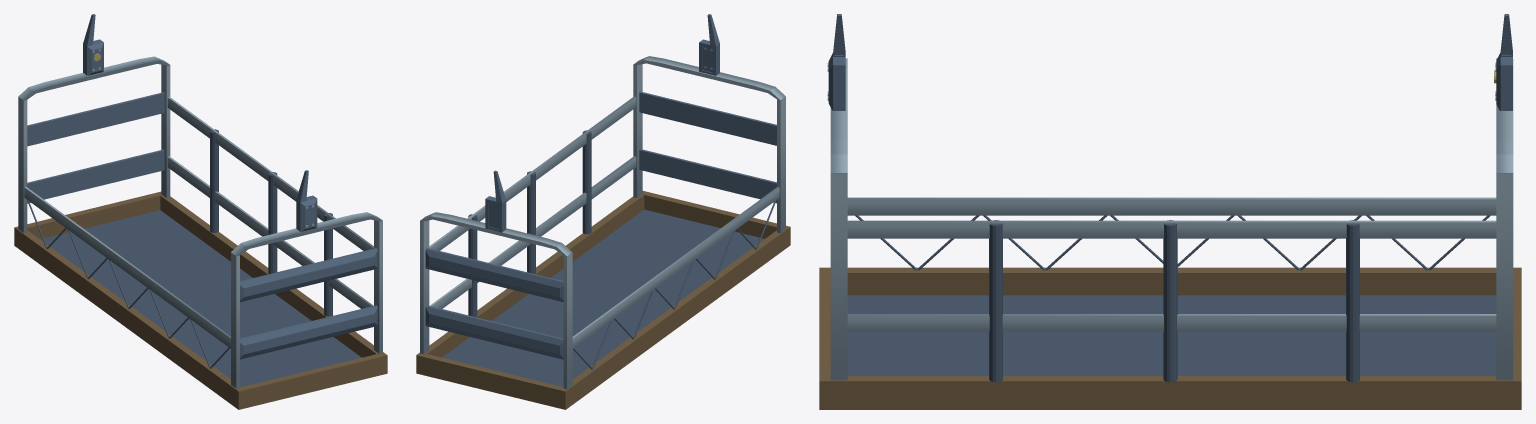
The model's file is e9464872-c8f0-4527-a8fd-db3aadce87e2.glb.
3 views of the same model, side by side, from view 1: azimuth 30°, elevation 25°; view 2: azimuth 150°, elevation 25°; view 3: azimuth 270°, elevation 25° (orthographic). The views are drawn at different scales.
Visible parts, largest first — view 1: Node; view 2: Node; view 3: Node.
Part boxes in pixels (x1=…): Node: x1=14, y1=14, x2=387, y2=409; Node: x1=416, y1=14, x2=790, y2=409; Node: x1=819, y1=14, x2=1521, y2=409.
Bounding box in the file's own units: 124 × 170 × 321.
Materials: 1 (1 with a texture image).
